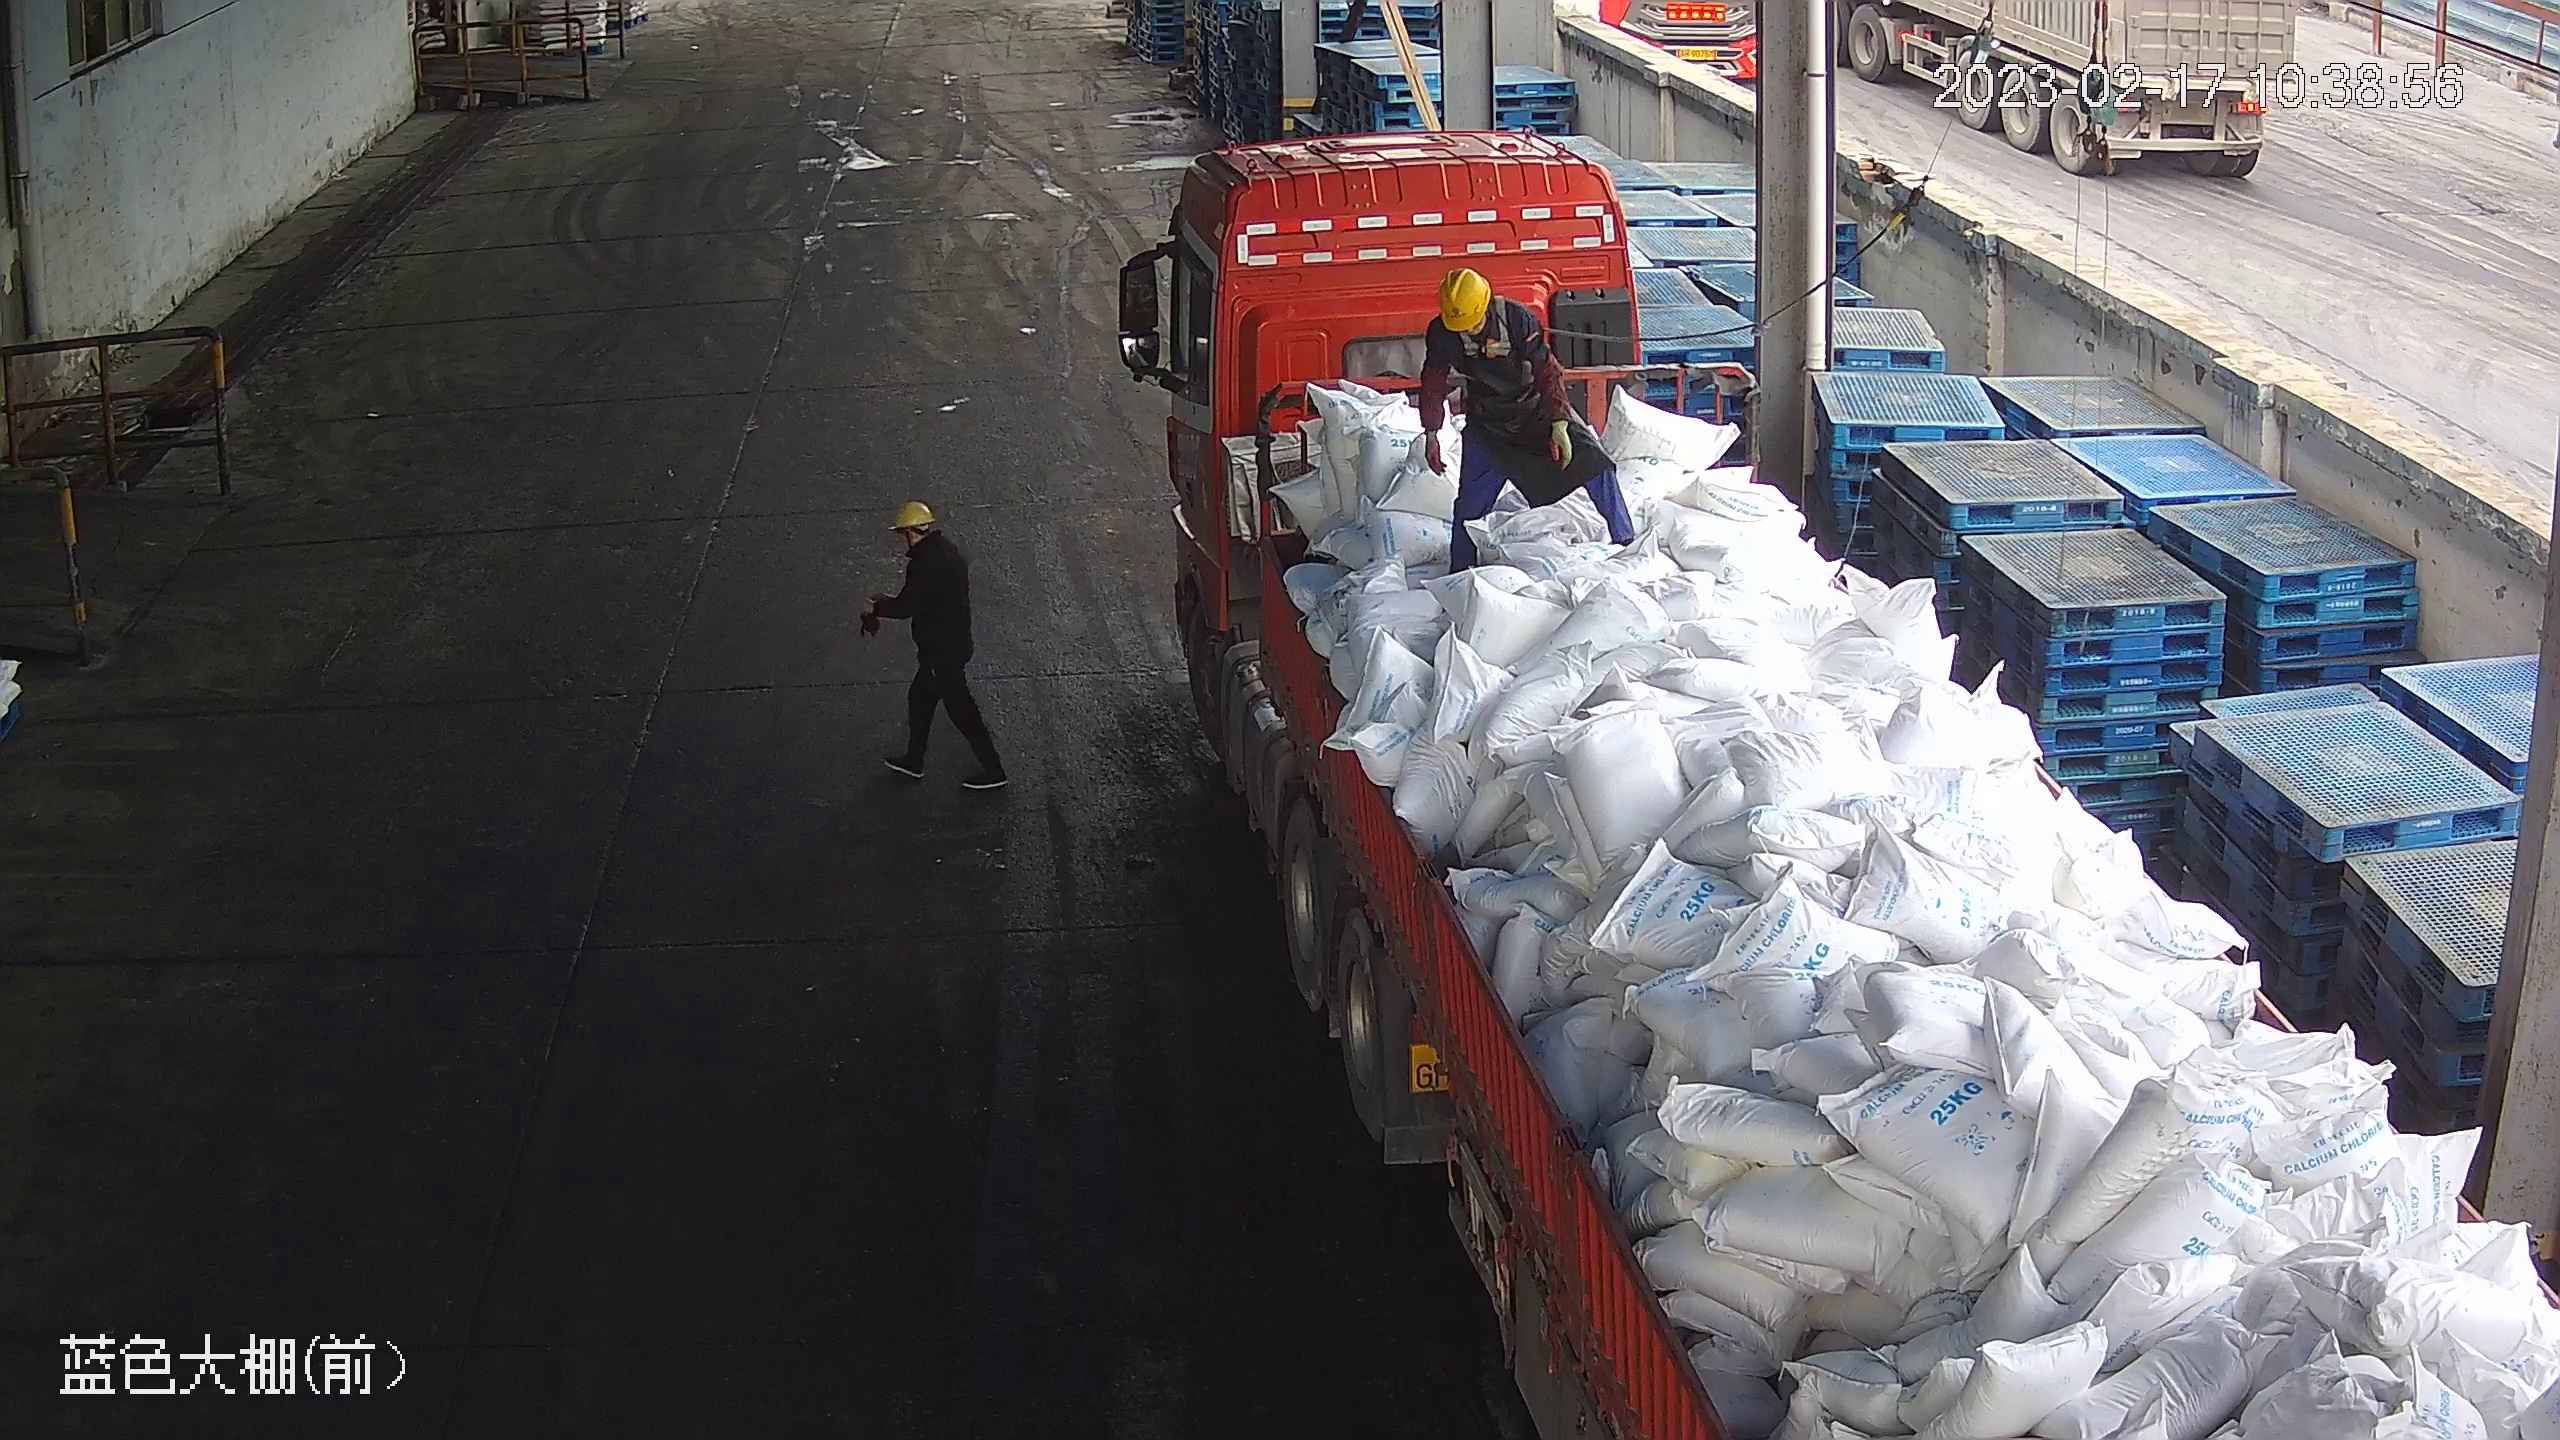belt: (1458, 289, 1539, 367)
head: (1425, 265, 1547, 358), (884, 499, 967, 587)
helmet: (1435, 265, 1493, 330), (887, 498, 932, 529)
people: (1414, 266, 1636, 573), (859, 497, 1008, 789)
truck: (1113, 122, 2558, 1439)
